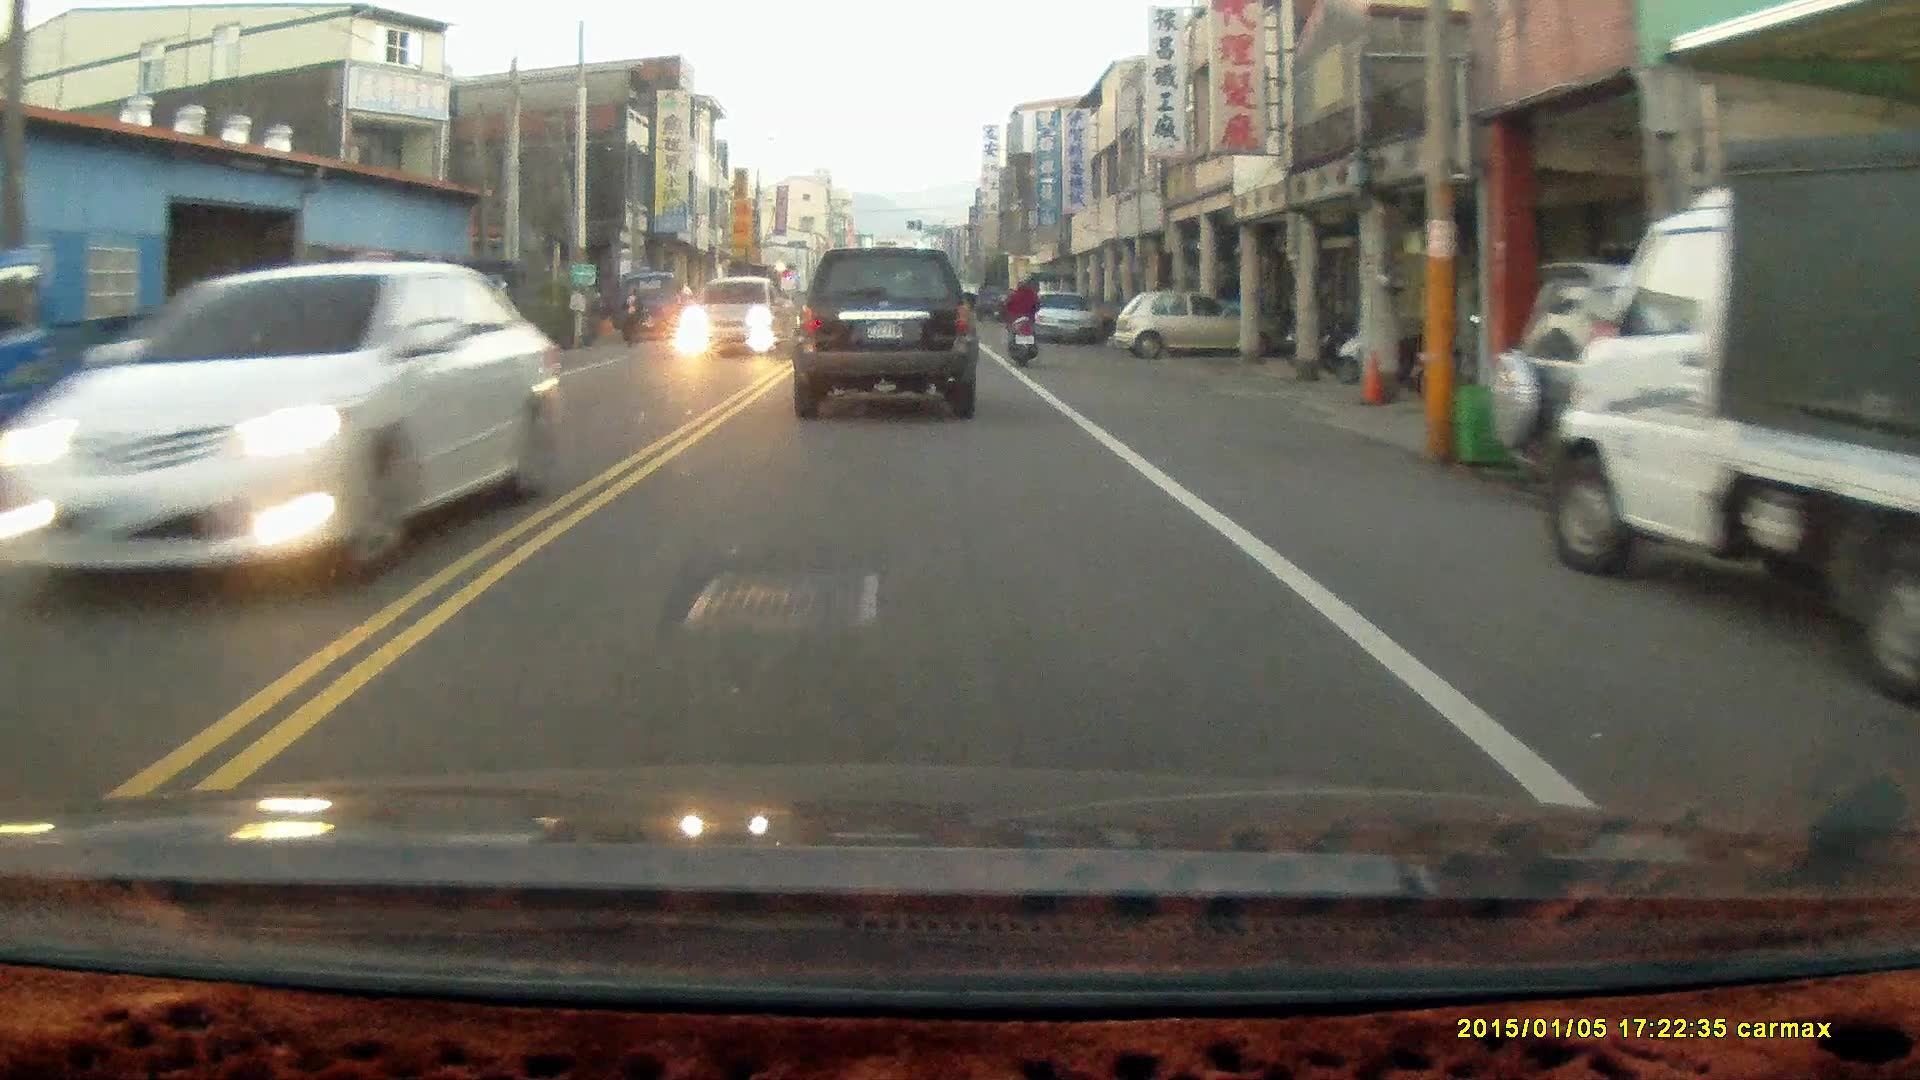pedestrian: (622, 286, 642, 346)
rider: (1005, 275, 1042, 370)
vehicle: (1548, 129, 1920, 693), (28, 265, 563, 603), (1486, 269, 1919, 512), (787, 252, 982, 428), (1113, 295, 1256, 366), (682, 281, 791, 364), (1029, 294, 1104, 347)
